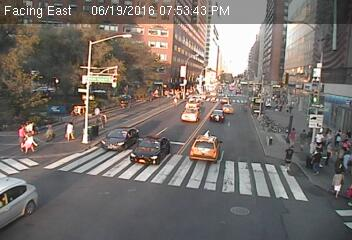neg: (244, 159, 276, 201), (167, 58, 198, 100), (181, 124, 206, 157), (272, 83, 296, 115), (57, 186, 80, 217), (127, 54, 149, 83), (215, 122, 232, 145), (139, 195, 154, 216), (283, 145, 298, 166), (133, 154, 147, 173), (226, 55, 240, 74), (84, 67, 98, 86), (231, 95, 245, 114), (188, 29, 201, 46), (268, 133, 278, 146)
pos: (325, 165, 349, 197), (57, 116, 77, 142), (309, 145, 329, 171)
